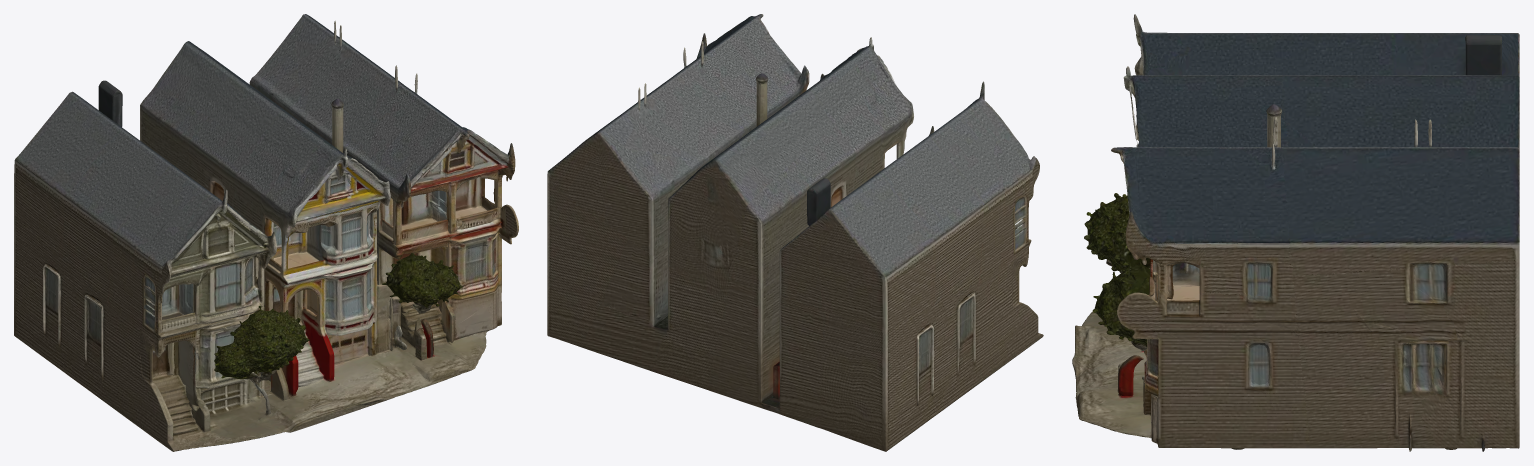
File: paintedLadies.glb
3 views of the same model, side by side, from view 1: azimuth 30°, elevation 25°; view 2: azimuth 150°, elevation 25°; view 3: azimuth 270°, elevation 25° (orthographic). The views are drawn at different scales.
Visible parts, largest first — view 1: tripo_node_f137745e-799d-4a73-b85e-4b8df883602e_tripo_node_f; view 2: tripo_node_f137745e-799d-4a73-b85e-4b8df883602e_tripo_node_f; view 3: tripo_node_f137745e-799d-4a73-b85e-4b8df883602e_tripo_node_f.
Part boxes in pixels (bbox=[...]): tripo_node_f137745e-799d-4a73-b85e-4b8df883602e_tripo_node_f: bbox=[14, 14, 518, 451]; tripo_node_f137745e-799d-4a73-b85e-4b8df883602e_tripo_node_f: bbox=[547, 14, 1043, 451]; tripo_node_f137745e-799d-4a73-b85e-4b8df883602e_tripo_node_f: bbox=[1072, 14, 1519, 451].
Size of the model in its own units: 1 by 0.7471 by 0.8956.
1 material, 1 textured.
